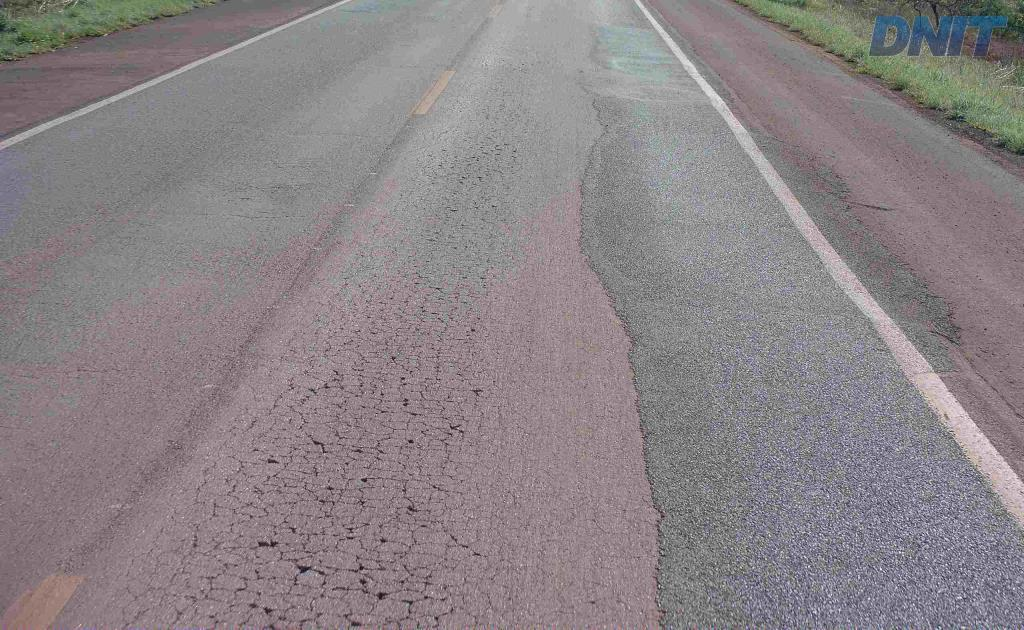crack: (223, 530, 329, 592)
